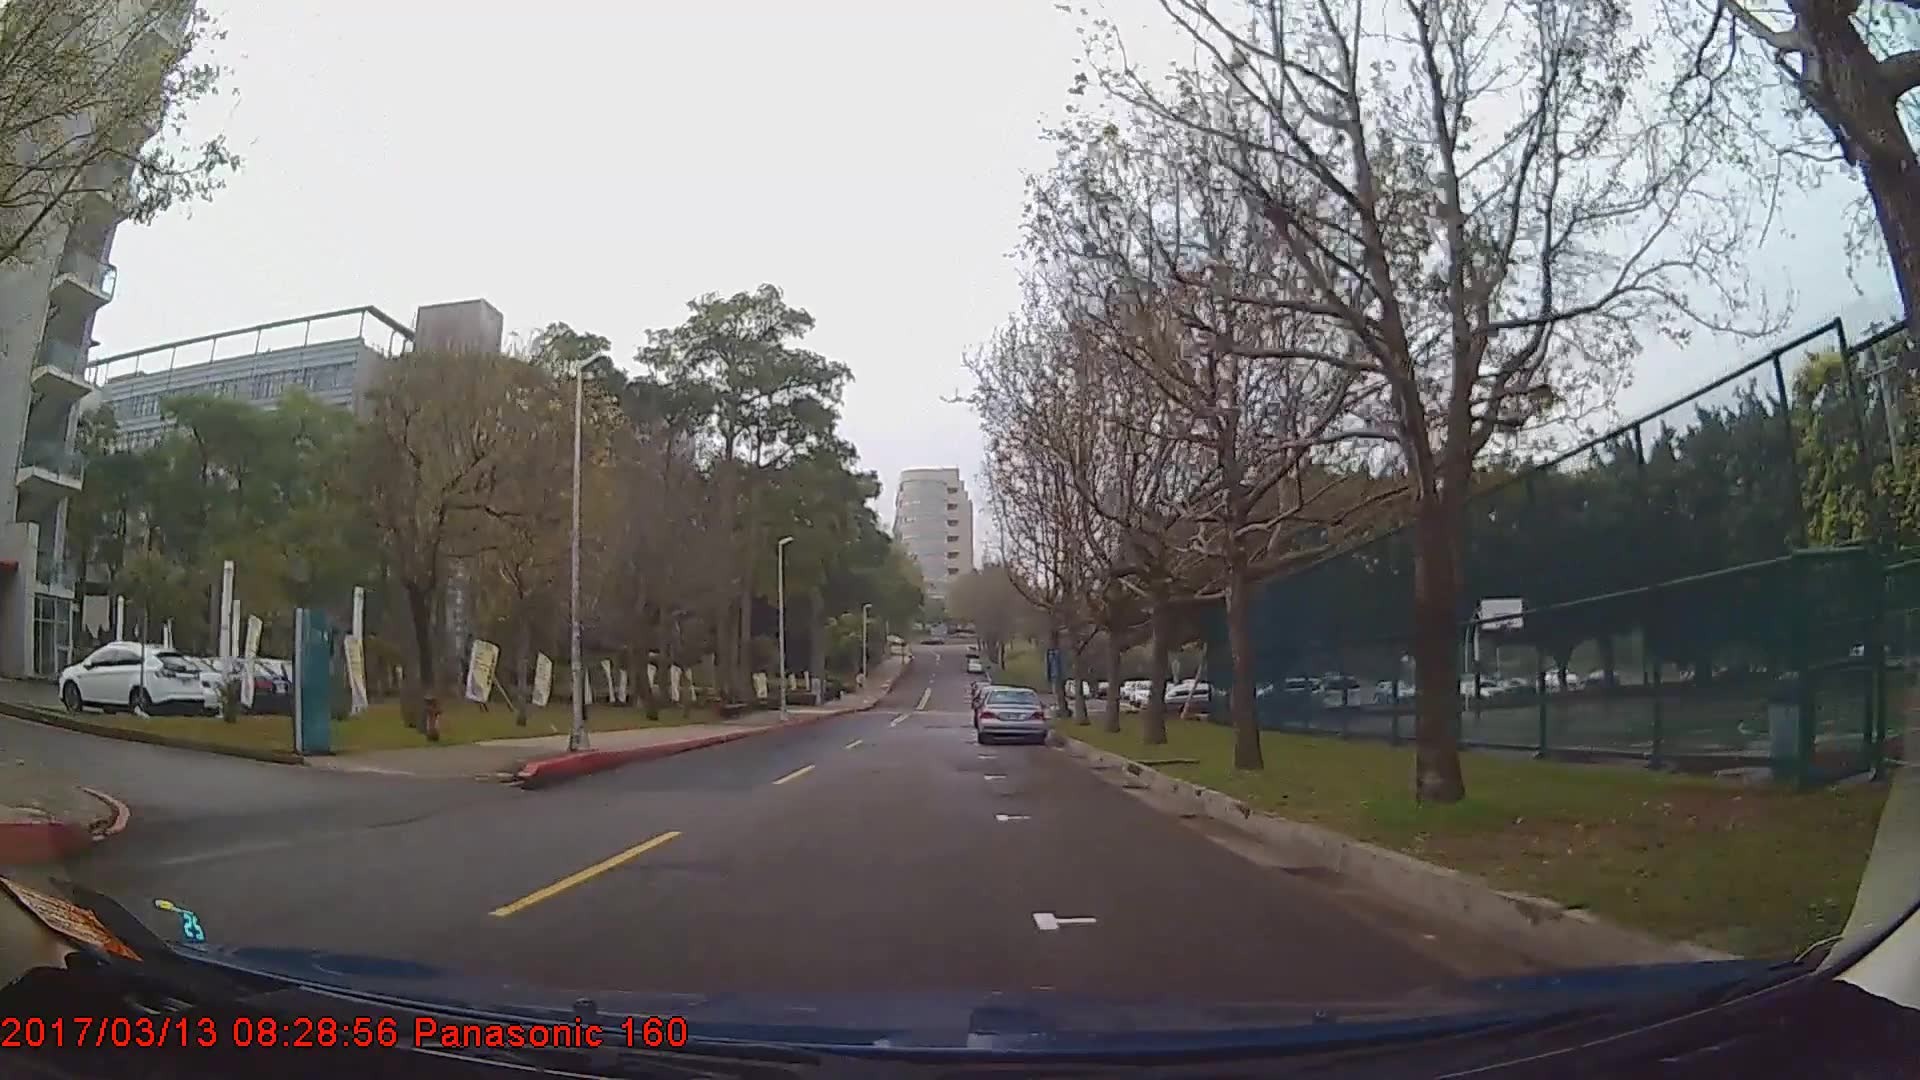vehicle: (58, 641, 204, 717), (109, 651, 235, 712), (977, 686, 1047, 745)
